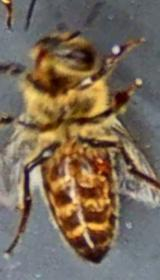varroa_mite: (84, 154, 118, 180)
